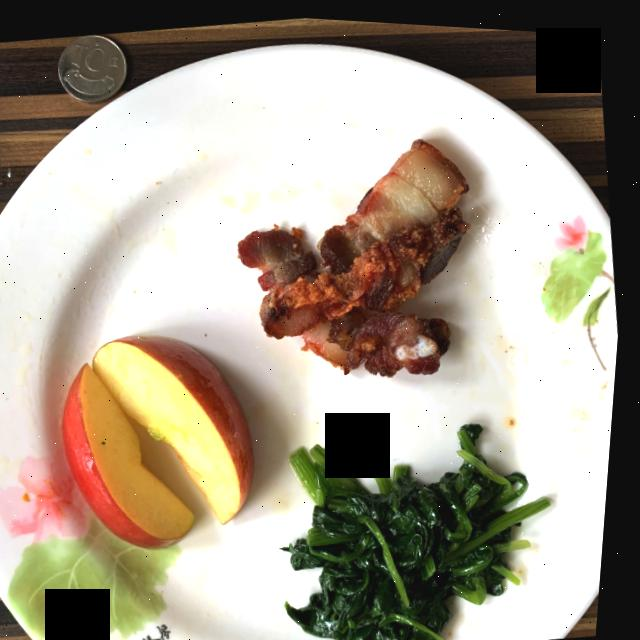apple -sliced-: (69, 333, 260, 546)
coin: (59, 33, 128, 100)
mustard greens: (291, 417, 556, 640)
red grilled pork: (242, 134, 473, 371)
